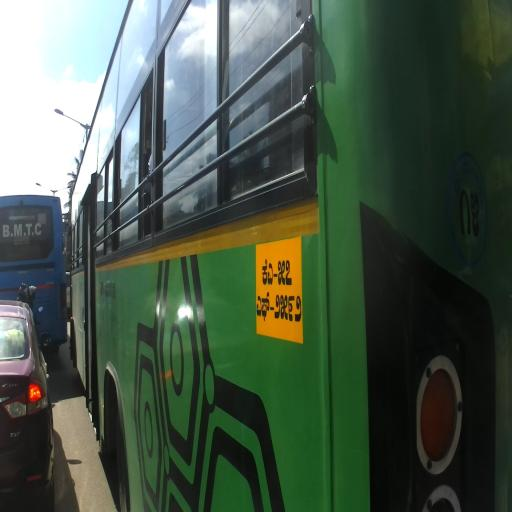street_light_0: (53, 108, 88, 140), (35, 182, 55, 198), (55, 184, 72, 198)
